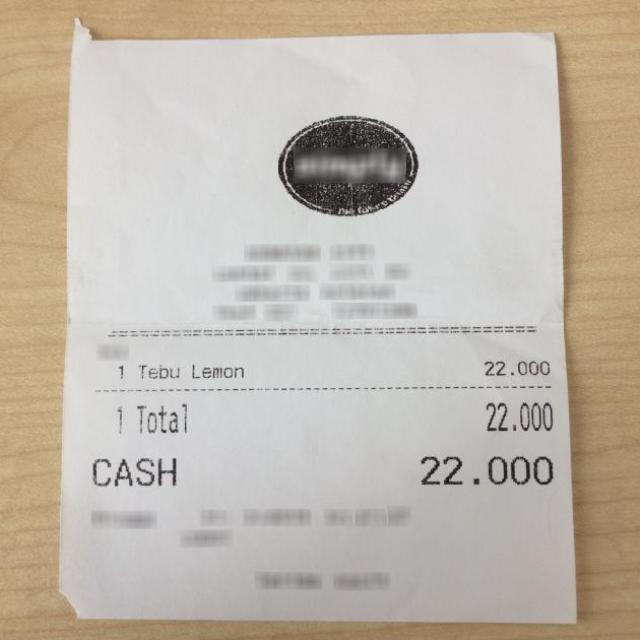kertas: (60, 23, 586, 627)
